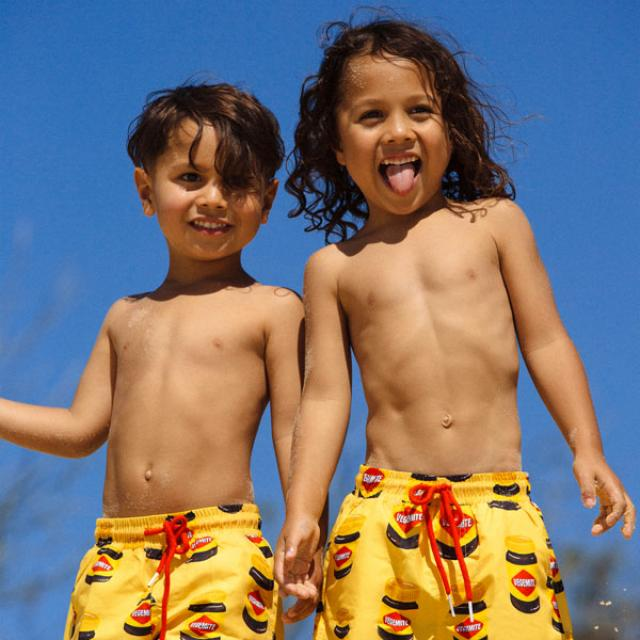child: (277, 20, 637, 640), (0, 81, 324, 640)
